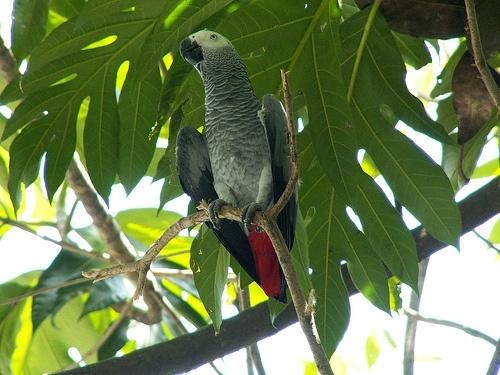bird: (176, 29, 297, 306)
